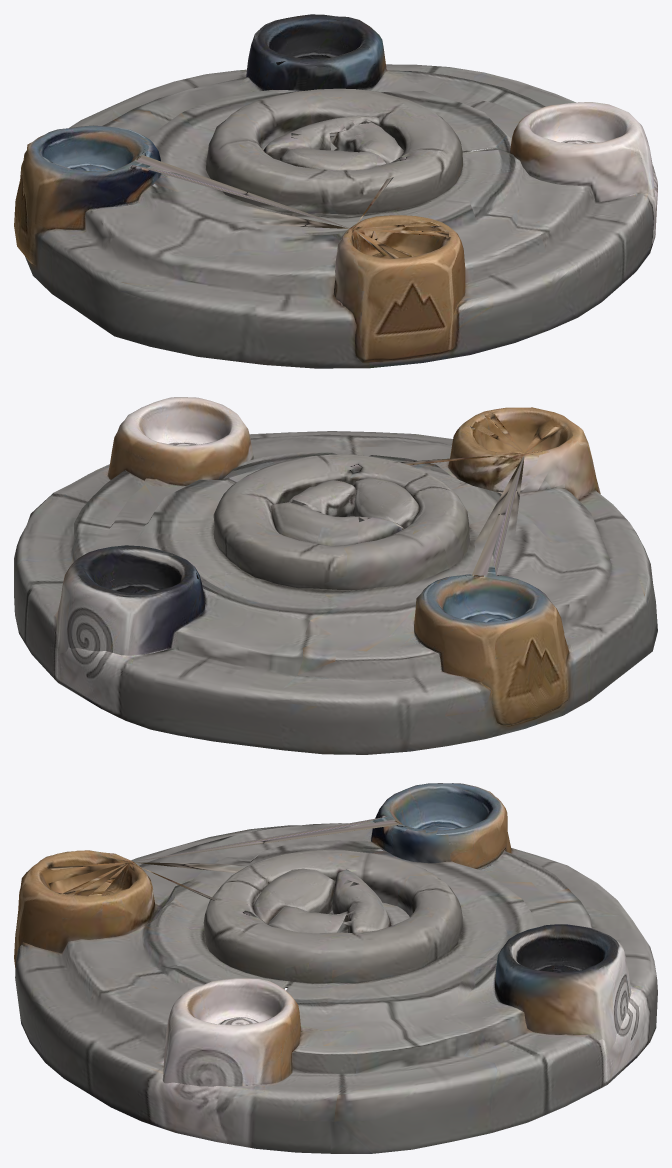
Rendered from el_marco_altar.glb.
3 views of the same model, one above another, from view 1: azimuth 30°, elevation 25°; view 2: azimuth 150°, elevation 25°; view 3: azimuth 270°, elevation 25° (orthographic). The views are drawn at different scales.
Parts seen in each view (by area): view 1: Mesh_0; view 2: Mesh_0; view 3: Mesh_0.
Part boxes in pixels (bbox=[...]): Mesh_0: bbox=[14, 14, 657, 368]; Mesh_0: bbox=[14, 397, 657, 754]; Mesh_0: bbox=[14, 783, 657, 1153].
Size of the model in its own units: 0.4192 by 0.0843 by 0.4124.
Materials: 1 (1 with a texture image).
